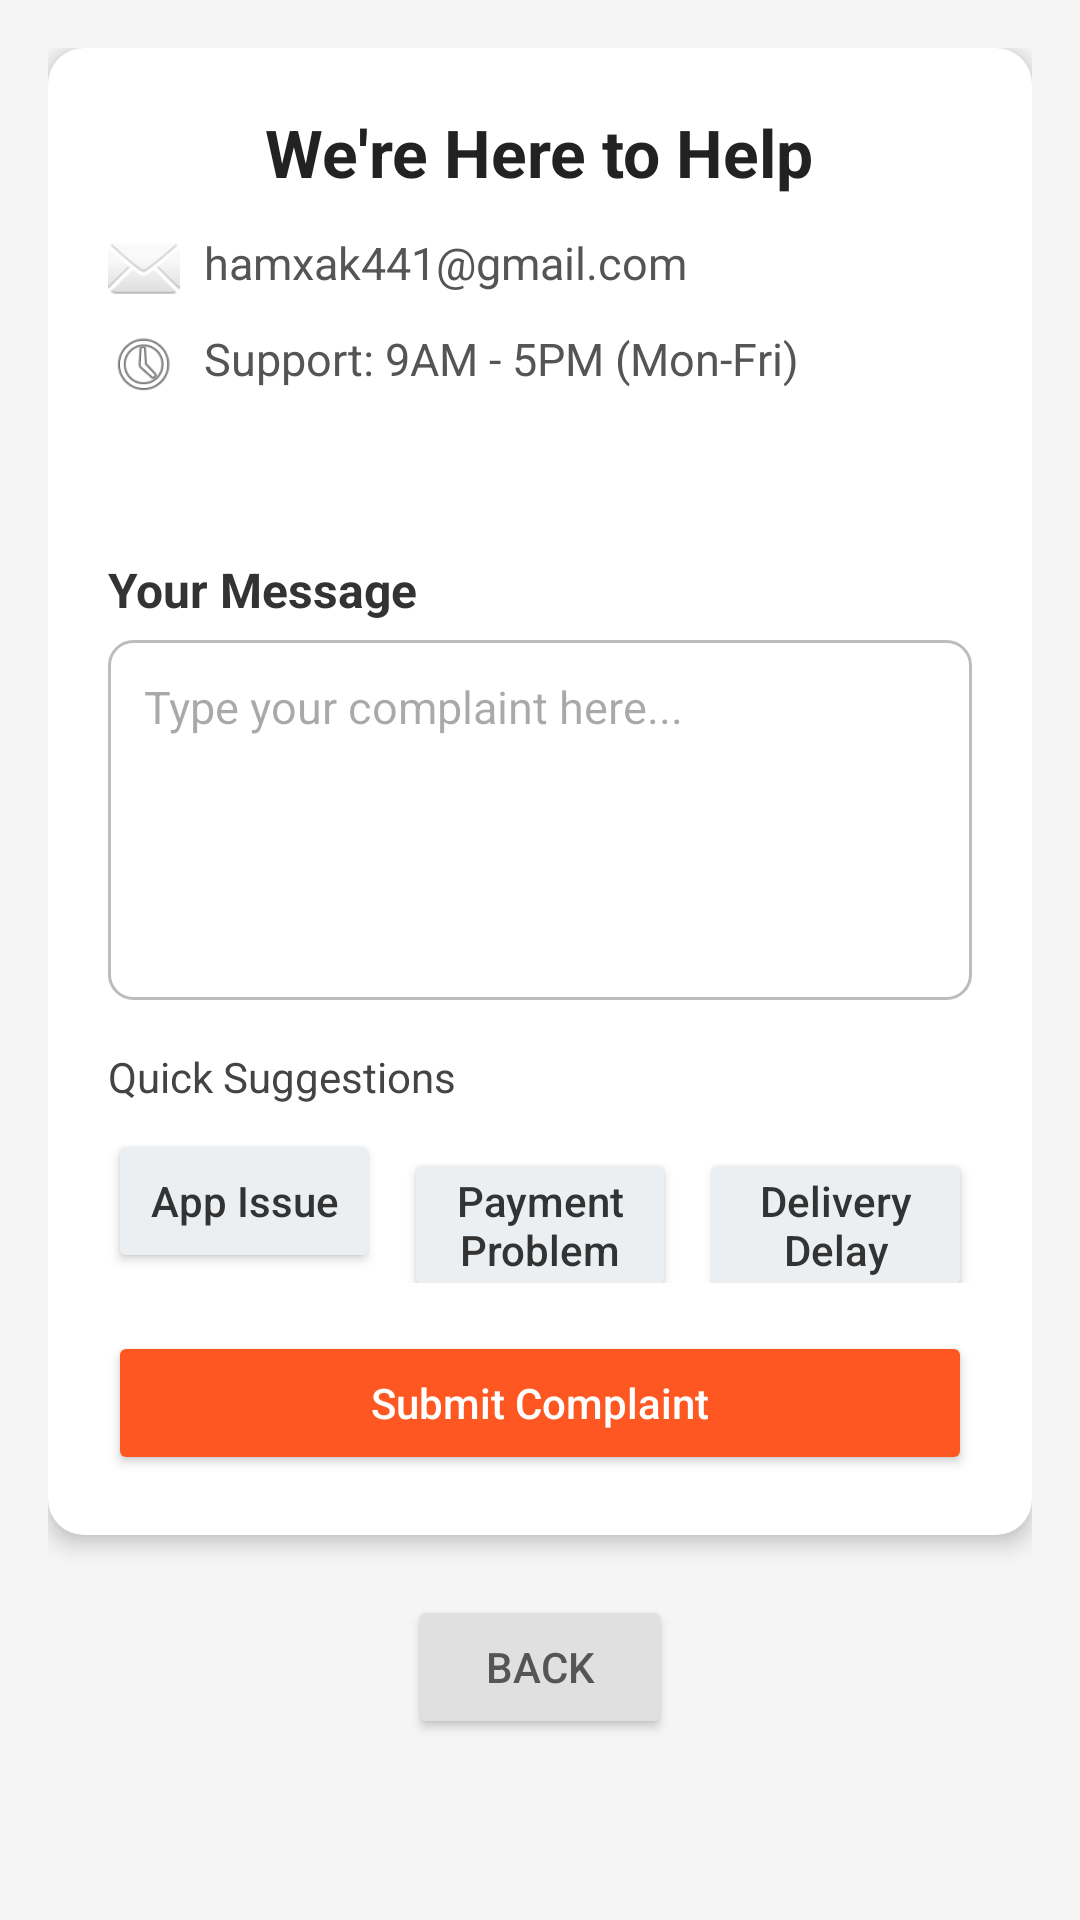

Screen size 1080px×1920px. Icon name, then its box in pixels as region(x1, y1, x2, y2):
email: region(108, 245, 180, 294)
recent history: region(117, 338, 170, 390)
